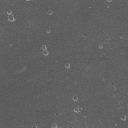corrosion: (46, 7, 54, 17), (7, 15, 16, 23), (63, 61, 71, 70), (71, 94, 79, 102), (73, 106, 82, 113), (50, 121, 59, 128), (119, 114, 127, 121), (6, 9, 13, 16), (42, 50, 49, 57), (41, 45, 48, 52), (98, 43, 104, 49), (46, 28, 52, 34)
